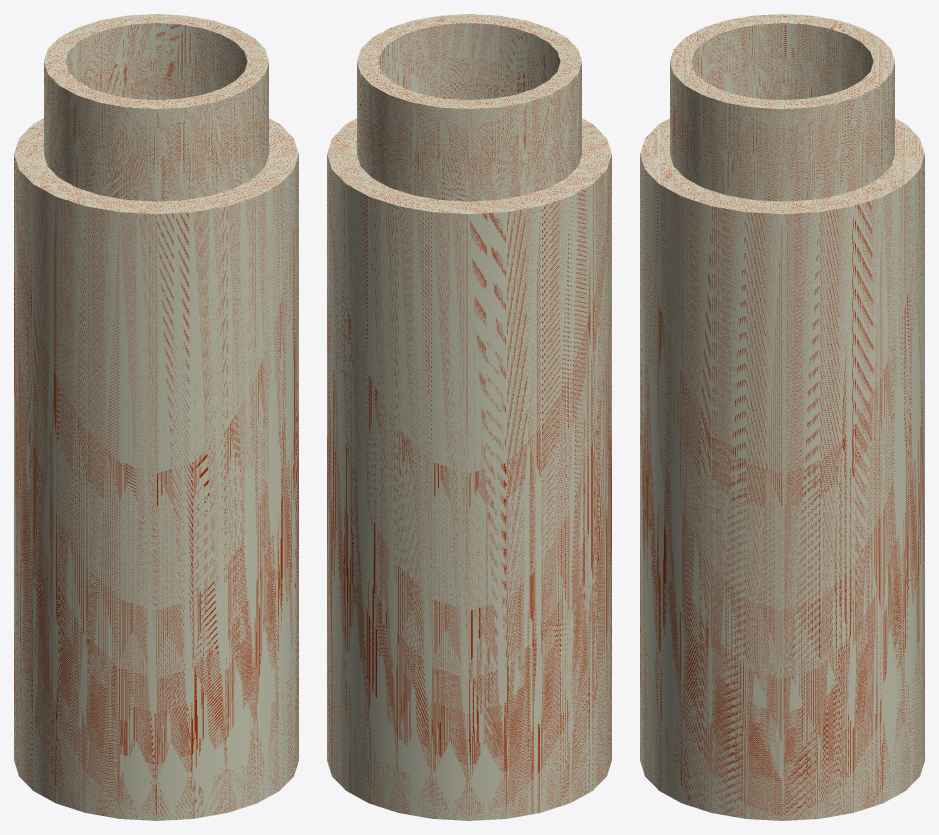
Rendered from original-3.obj.
3 views of the same model, side by side, from view 1: azimuth 30°, elevation 25°; view 2: azimuth 150°, elevation 25°; view 3: azimuth 270°, elevation 25° (orthographic).
Parts seen in each view (by area): view 1: mesh2/mesh2-geometry#mesh2-geometry; view 2: mesh2/mesh2-geometry#mesh2-geometry; view 3: mesh2/mesh2-geometry#mesh2-geometry.
Boxes of the visible parts, x1,y1,x2,y2 form: mesh2/mesh2-geometry#mesh2-geometry: (14,14,298,820); mesh2/mesh2-geometry#mesh2-geometry: (327,14,611,820); mesh2/mesh2-geometry#mesh2-geometry: (640,14,924,820).
Bounding box in the file's own units: 0.0863 × 0.2339 × 0.0863.
